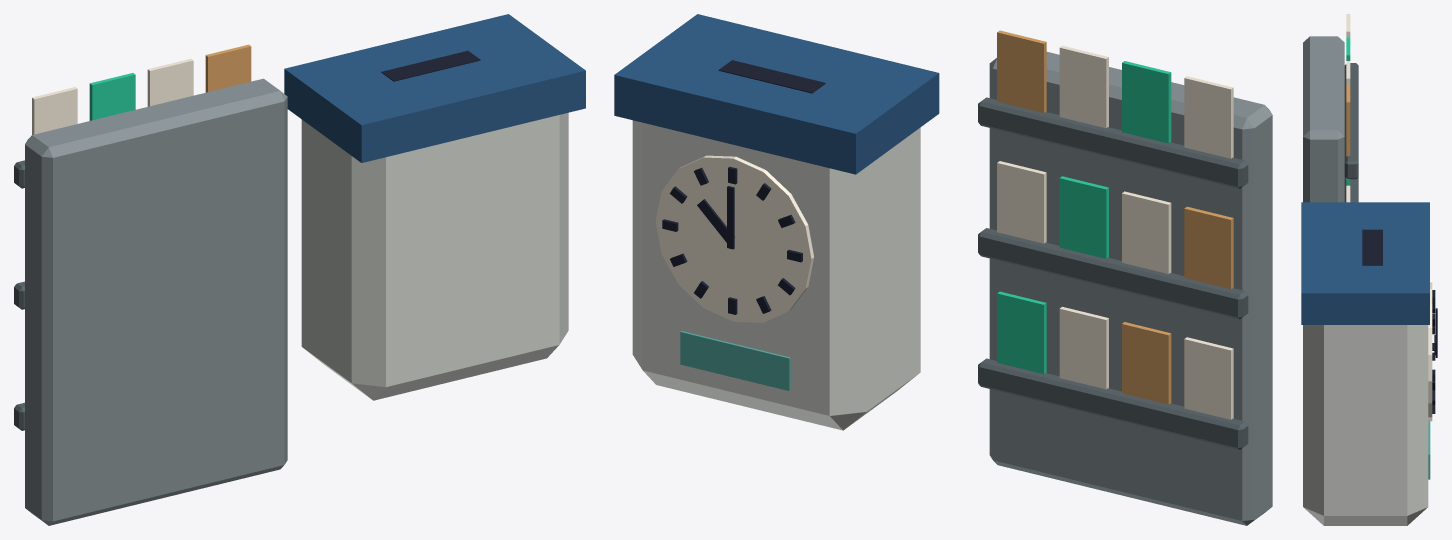
The model's file is sm_env_depot_time_clock.glb.
3 views of the same model, side by side, from view 1: azimuth 30°, elevation 25°; view 2: azimuth 150°, elevation 25°; view 3: azimuth 270°, elevation 25° (orthographic). The views are drawn at different scales.
Visible parts, largest first — view 1: Rack, ClockBody, ClockBand, Card.010, Card.011, Card.009, Card.008, CardSlot; view 2: Rack, ClockBody, ClockBand, ClockFace, RackLip, RackLip.001, RackLip.002, Display, Card, Card.001, Card.002, Card.004 (+9 smaller); view 3: ClockBody, ClockBand, Rack, RackLip.002, CardSlot, ClockFace, Card.011, RackLip.001.
Boxes of the visible parts, x1=… form: Rack: x1=25, y1=78, x2=287, y2=525; ClockBody: x1=301, y1=112, x2=568, y2=400; ClockBand: x1=284, y1=14, x2=585, y2=162; Card.010: x1=147, y1=58, x2=193, y2=106; Card.011: x1=205, y1=44, x2=251, y2=92; Card.009: x1=89, y1=73, x2=135, y2=120; Card.008: x1=32, y1=87, x2=77, y2=134; CardSlot: x1=381, y1=50, x2=480, y2=81; Rack: x1=989, y1=52, x2=1272, y2=525; ClockBody: x1=632, y1=120, x2=920, y2=430; ClockBand: x1=614, y1=14, x2=939, y2=174; ClockFace: x1=655, y1=155, x2=813, y2=322; RackLip: x1=978, y1=358, x2=1248, y2=449; RackLip.001: x1=978, y1=228, x2=1248, y2=319; RackLip.002: x1=978, y1=97, x2=1248, y2=188; Display: x1=680, y1=331, x2=790, y2=390; Card: x1=1184, y1=337, x2=1233, y2=419; Card.001: x1=1122, y1=322, x2=1171, y2=404; Card.002: x1=1059, y1=306, x2=1108, y2=389; Card.004: x1=1184, y1=206, x2=1233, y2=289; ClockBody: x1=1303, y1=325, x2=1428, y2=525; ClockBand: x1=1301, y1=202, x2=1429, y2=324; Rack: x1=1303, y1=36, x2=1344, y2=202; RackLip.002: x1=1344, y1=63, x2=1358, y2=179; CardSlot: x1=1362, y1=229, x2=1382, y2=265; ClockFace: x1=1428, y1=282, x2=1432, y2=421; Card.011: x1=1346, y1=84, x2=1350, y2=156; RackLip.001: x1=1344, y1=177, x2=1358, y2=202.
Bounding box in the file's own units: 0.745 × 0.54 × 0.196.
